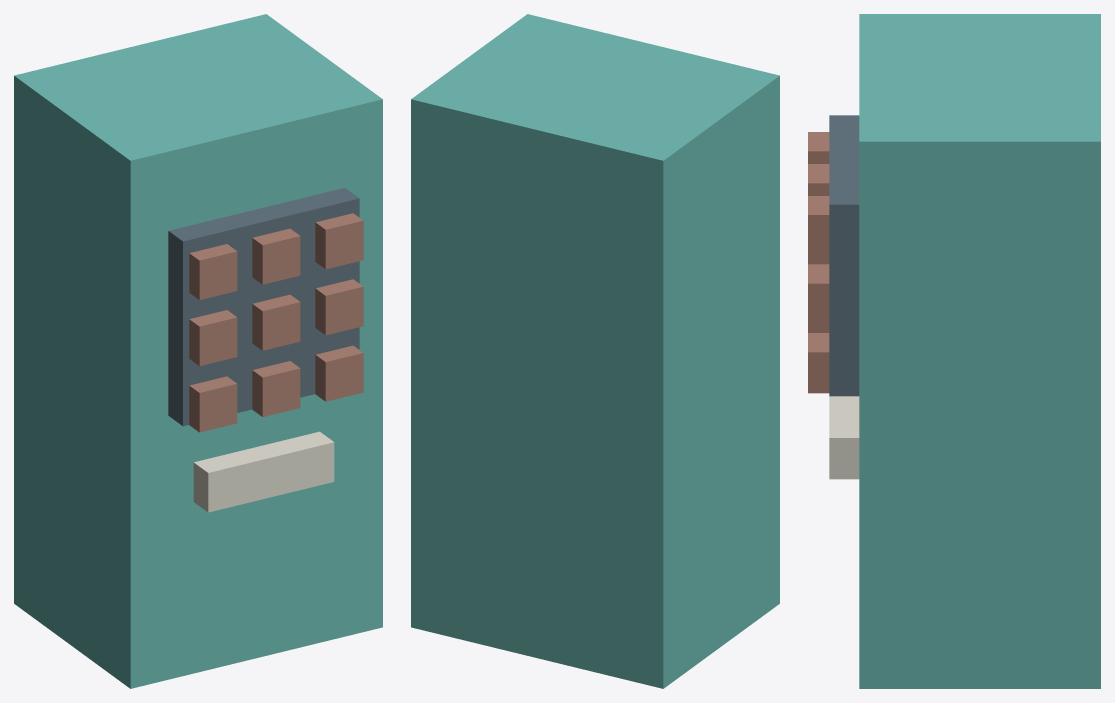
The model's file is voxel-city-districts-vending-machine-cd45ca05__24883.glb.
3 renders of one model, left to right at view 1: azimuth 30°, elevation 25°; view 2: azimuth 150°, elevation 25°; view 3: azimuth 270°, elevation 25°, orthographic. The views are drawn at different scales.
Parts seen in each view (by area): view 1: vending-machine-accent, vending-machine-roof, vending-machine-dark, vending-machine-concrete; view 2: vending-machine-accent; view 3: vending-machine-accent, vending-machine-dark, vending-machine-roof, vending-machine-concrete.
Boxes of the visible parts, x1,y1,x2,y2 form: vending-machine-accent: (14,14,382,688); vending-machine-roof: (189,213,363,432); vending-machine-dark: (168,188,359,426); vending-machine-concrete: (193,431,334,512); vending-machine-accent: (411,14,779,688); vending-machine-accent: (859,14,1100,688); vending-machine-dark: (829,115,859,396); vending-machine-roof: (808,132,829,393); vending-machine-concrete: (829,396,859,479).
Bounding box in the file's own units: 1 × 2 × 0.9699.
